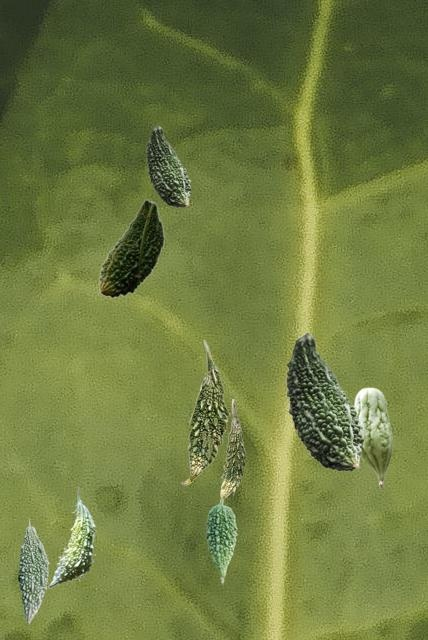ampalaya: (286, 332, 363, 470), (181, 339, 229, 484), (98, 199, 164, 297), (48, 487, 95, 587), (353, 387, 392, 487), (146, 125, 190, 206), (18, 517, 48, 623), (205, 496, 236, 583), (220, 399, 245, 499)
